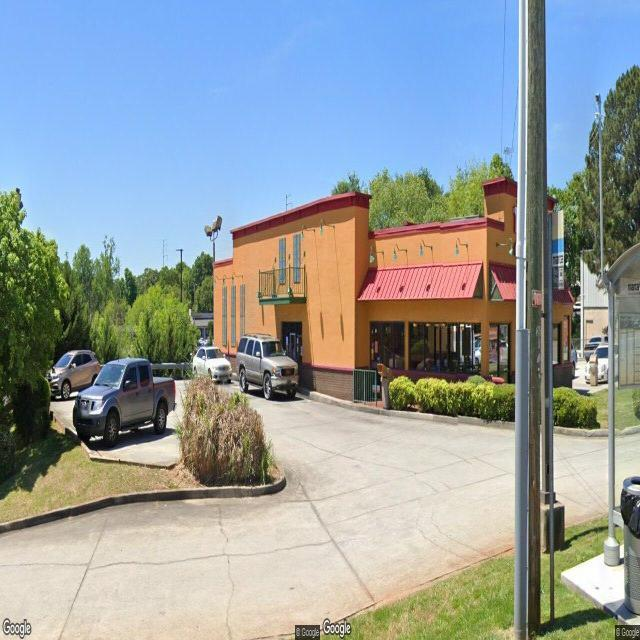shelter: (602, 238, 640, 640)
trash_can: (621, 473, 640, 619)
